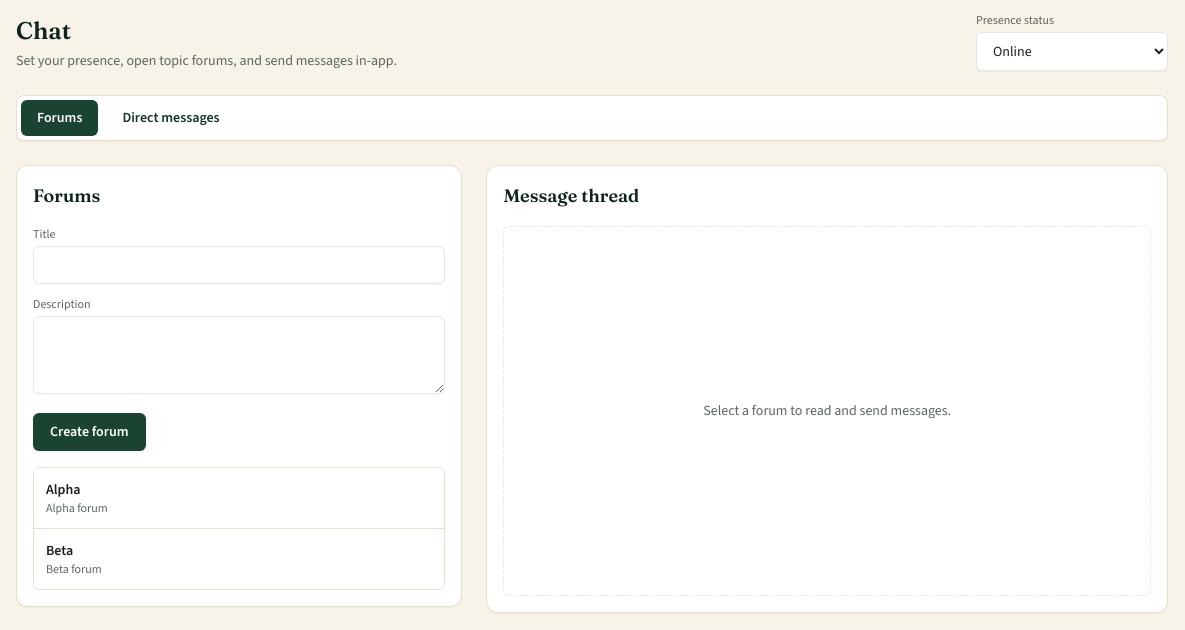
it: public forum › signals through the forum route with only { typing } and shows typing from the stream
Click the button "Alpha Alpha forum" at (63, 490), box [34, 468, 444, 528]
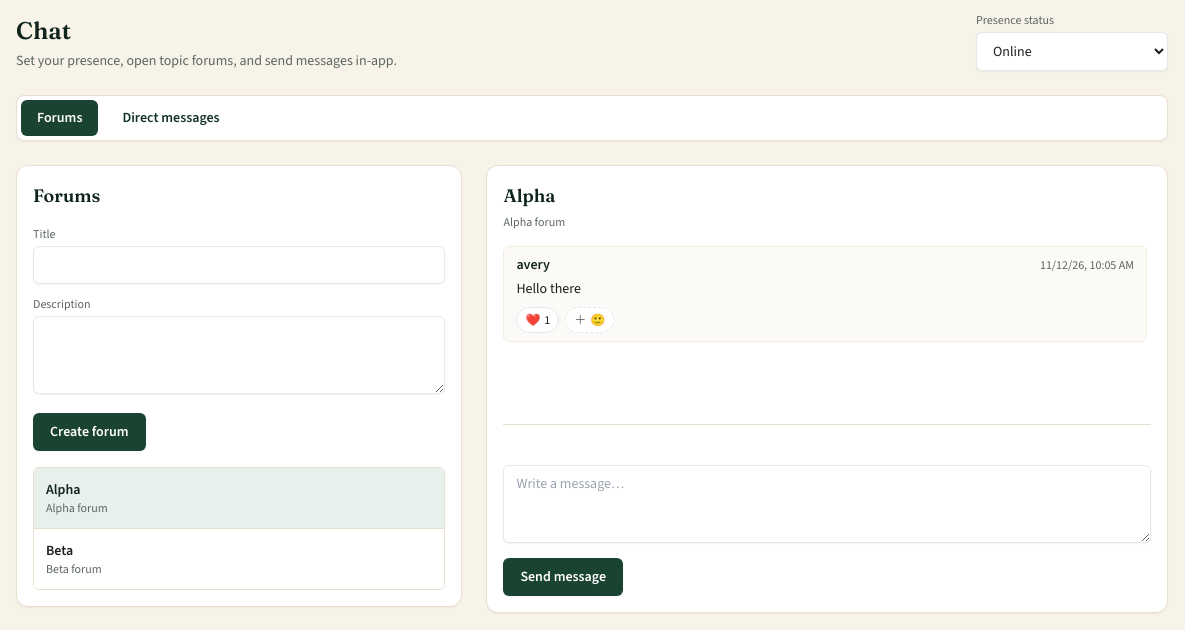
Expected: the form with test id "send-message-form" is shown, [503, 424, 1151, 596]
Type "secret plan" into the text box labelled "message" at (827, 504), box [503, 465, 1151, 543]
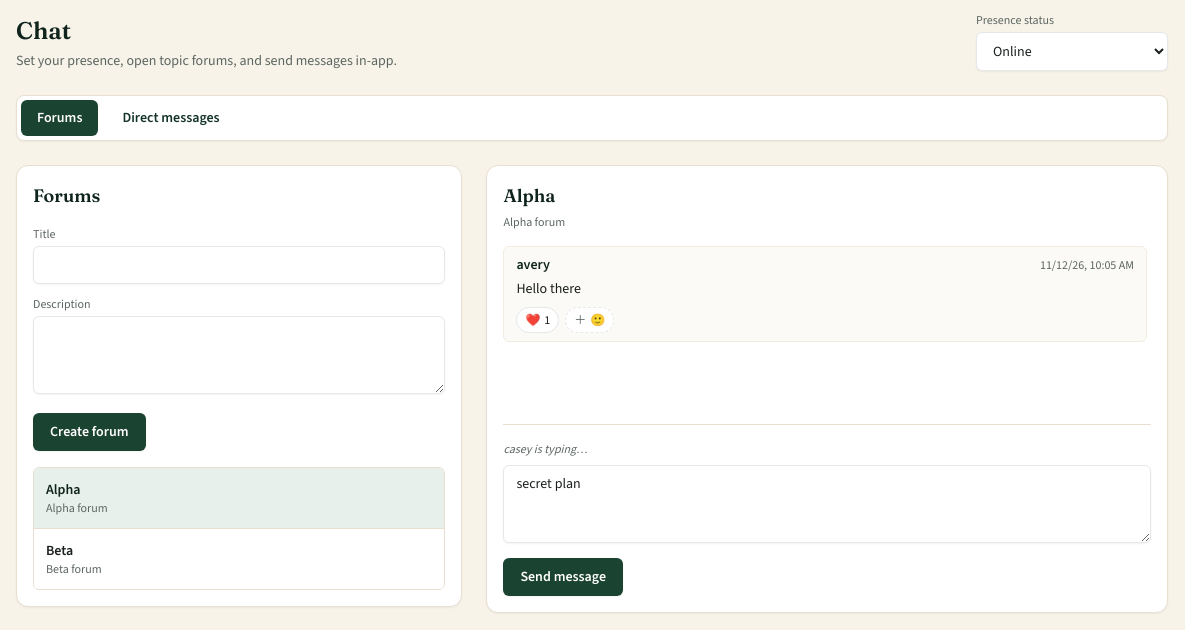
Result: the message with test id "typing-indicator" reads "casey is typing…" at [503, 441, 588, 457]
